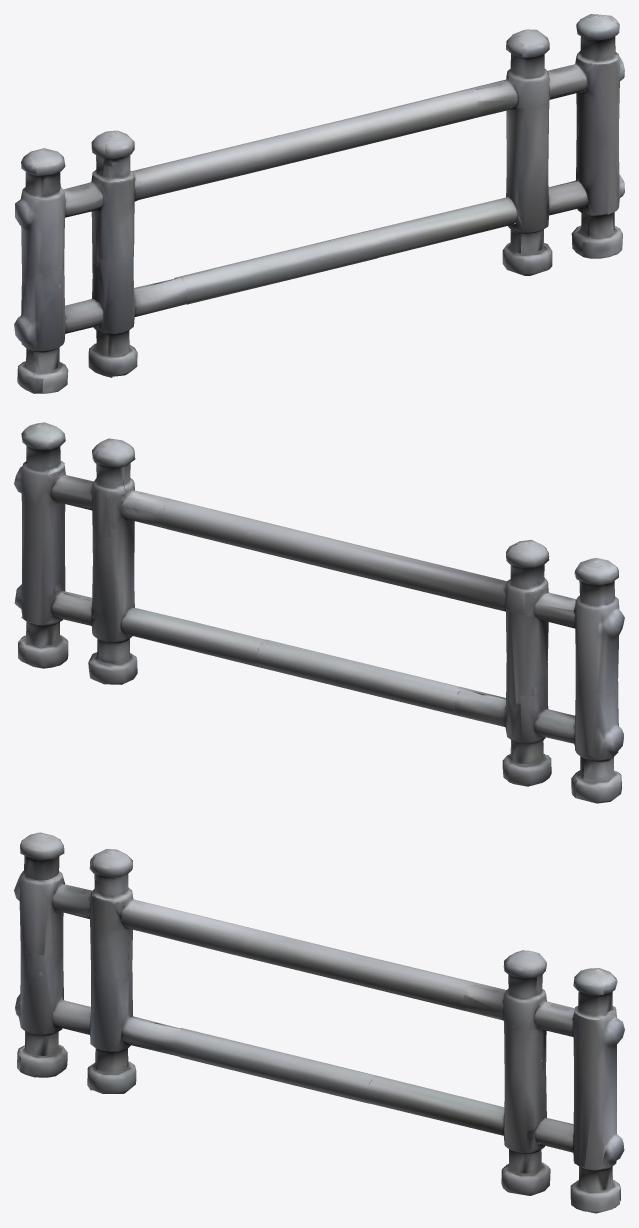
File: prop_pagar.glb
3 renders of one model, top to bottom at view 1: azimuth 30°, elevation 25°; view 2: azimuth 150°, elevation 25°; view 3: azimuth 330°, elevation 25°, orthographic.
Visible parts, largest first — view 1: prop_pagar; view 2: prop_pagar; view 3: prop_pagar.
Part boxes in pixels (x1,y1,x2,y2): prop_pagar: [14, 14, 624, 393]; prop_pagar: [14, 422, 624, 803]; prop_pagar: [14, 832, 624, 1213].
Bounding box in the file's own units: 1.4 × 0.5232 × 0.0982.
1 material, 1 textured.
